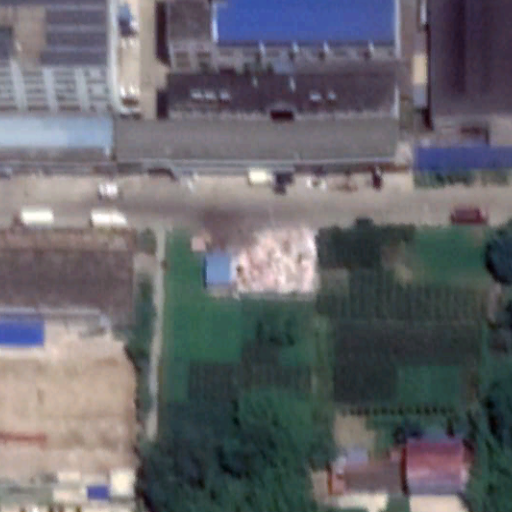msw: (228, 227, 316, 291)
